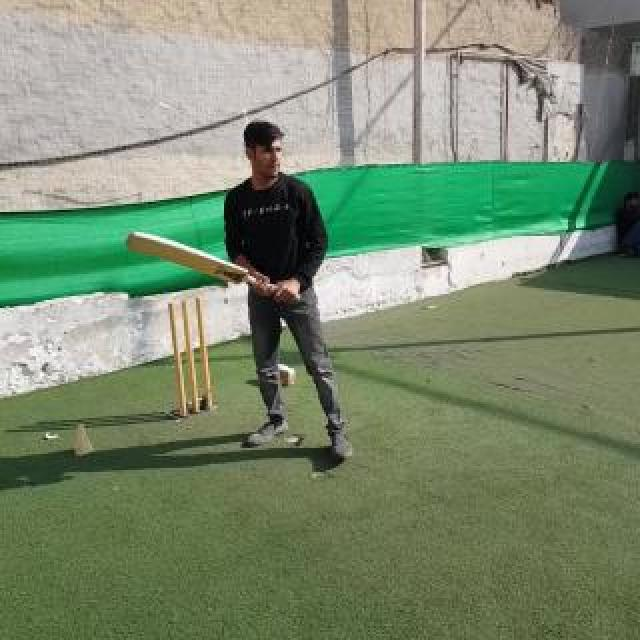bat: (126, 230, 302, 302)
